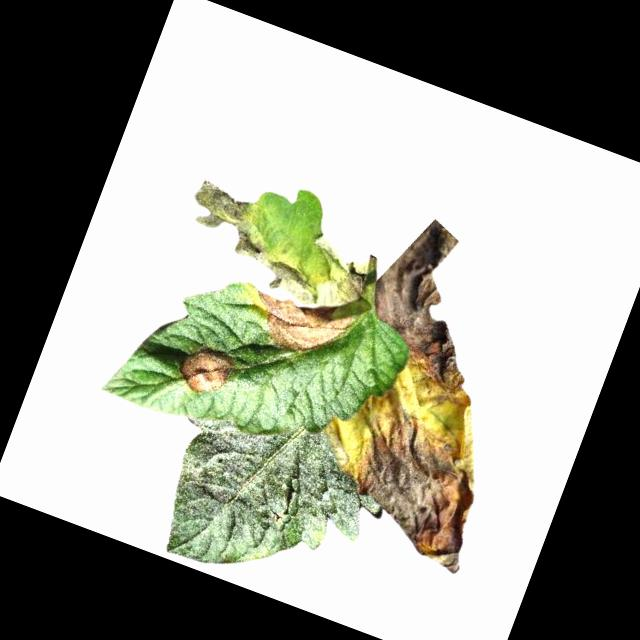Late_blight: (320, 393, 514, 579), (347, 207, 522, 398), (171, 175, 383, 323), (241, 281, 363, 374), (174, 338, 242, 403)
